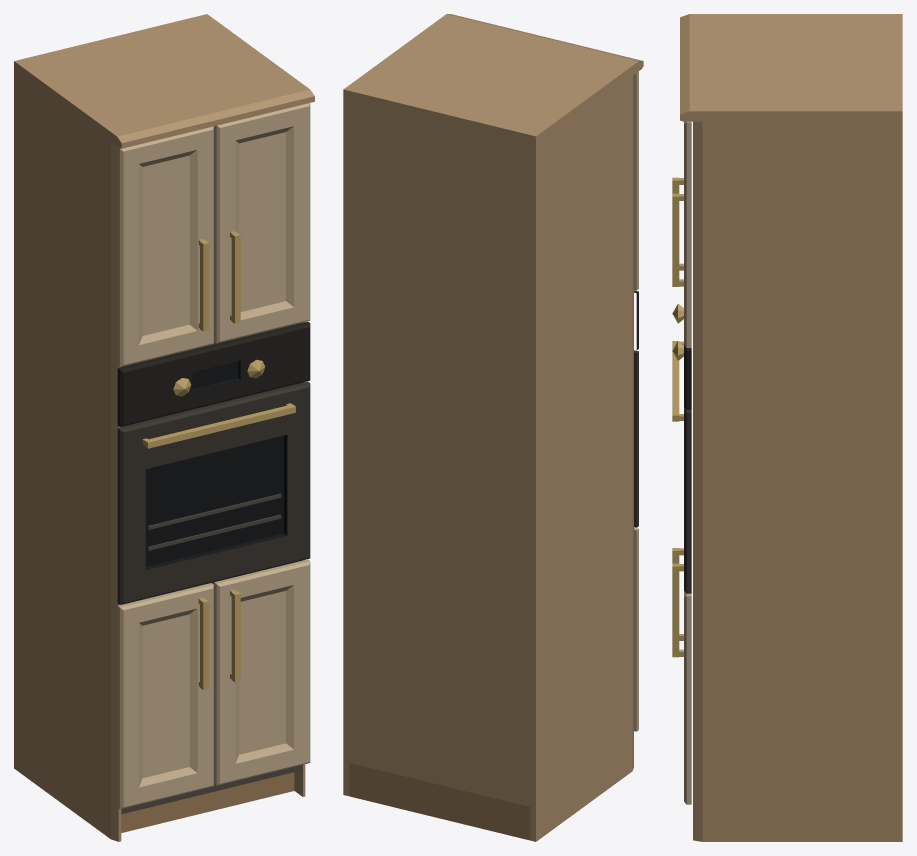
File: built-in-oven-housing-d292c6.glb
3 views of the same model, side by side, from view 1: azimuth 30°, elevation 25°; view 2: azimuth 150°, elevation 25°; view 3: azimuth 270°, elevation 25° (orthographic). The views are drawn at different scales.
Parts seen in each view (by area): view 1: built-in-oven-housing, oven-door, cup-door-up-l, cup-door-up-r, cup-door-lo-l, cup-door-lo-r; view 2: built-in-oven-housing, cup-door-up-l, cup-door-lo-l, oven-door; view 3: built-in-oven-housing, cup-door-up-r, cup-door-lo-r, oven-door.
Part boxes in pixels (box(x1,y1,x2,y2)): built-in-oven-housing: box(14, 14, 314, 841); oven-door: box(117, 381, 310, 604); cup-door-up-l: box(117, 126, 213, 366); cup-door-up-r: box(214, 103, 310, 343); cup-door-lo-l: box(117, 583, 213, 809); cup-door-lo-r: box(214, 559, 310, 785); built-in-oven-housing: box(343, 14, 643, 841); cup-door-up-l: box(634, 71, 638, 290); cup-door-lo-l: box(634, 527, 638, 731); oven-door: box(634, 350, 638, 527); built-in-oven-housing: box(672, 14, 902, 841); cup-door-up-r: box(672, 121, 691, 347); cup-door-lo-r: box(672, 563, 691, 804); oven-door: box(672, 341, 691, 593).
Bounding box in the file's own units: 0.6 × 2.1 × 0.6.
